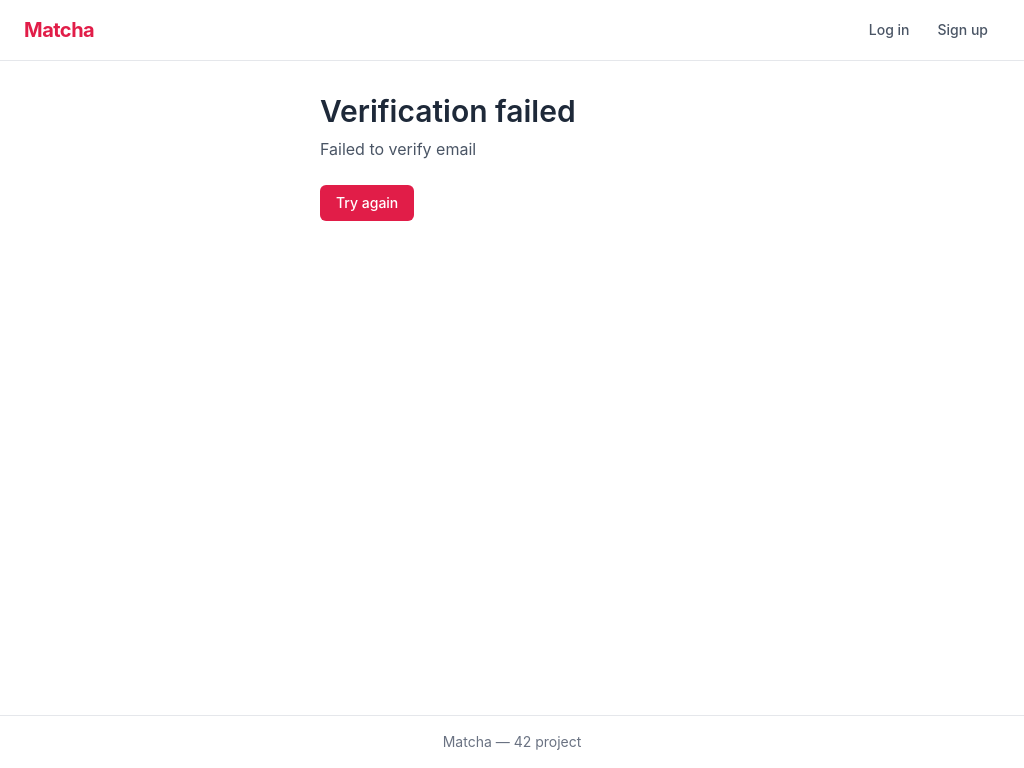
it: verify email page › does not claim success when the server fails, and lets the user retry
Expected: the heading "Verification failed" is shown, [320,93,576,129]
Expected: the message reads "Failed to verify email", [320,139,476,159]
Click the button "Try again" at (367, 203), box [320,185,414,221]
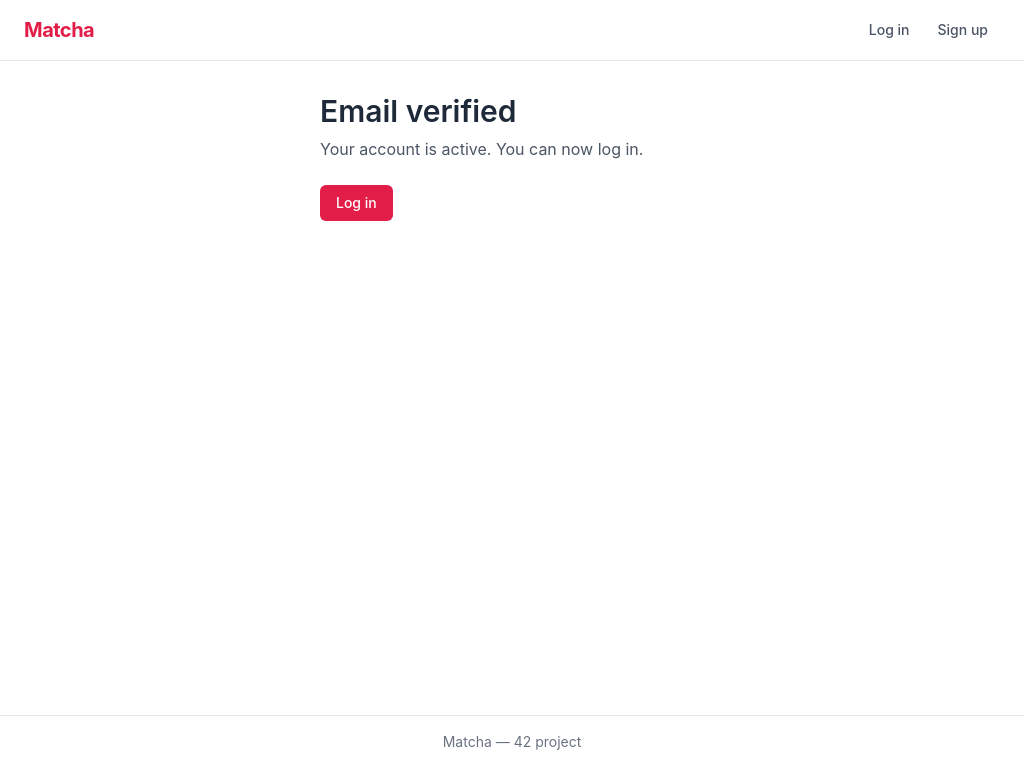
Expected: the heading "Email verified" is shown, [320,93,517,129]
